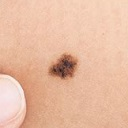Melanoma: (50, 53, 79, 79)
